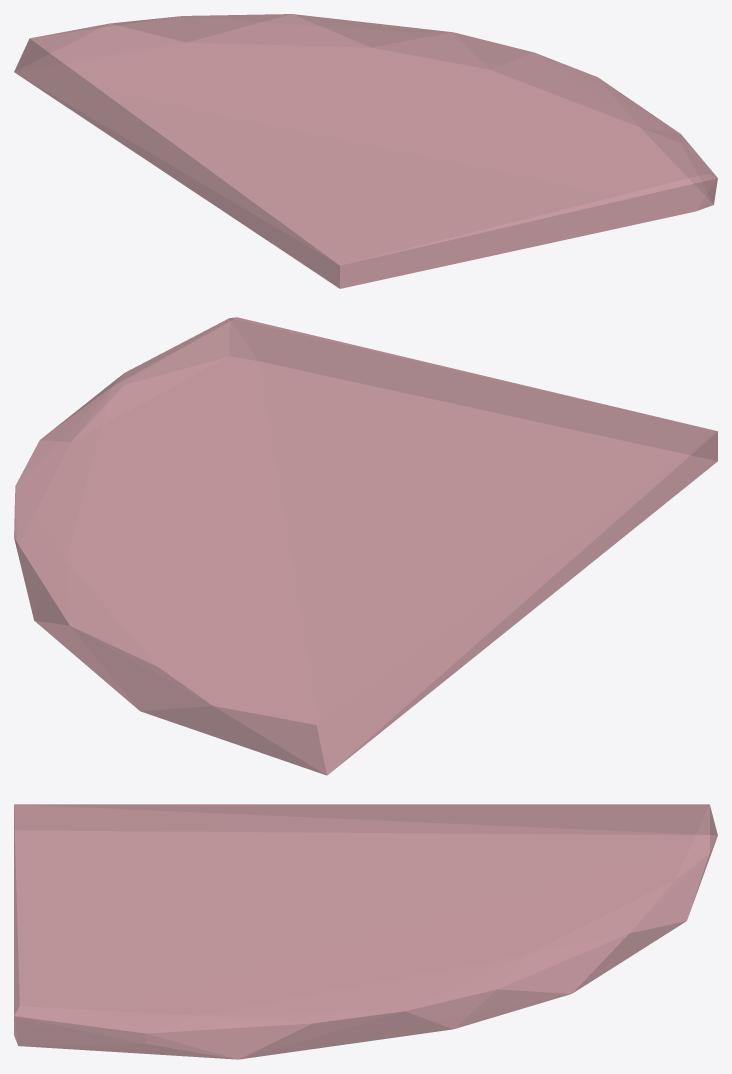
3 views of the same model, one above another, from view 1: azimuth 30°, elevation 25°; view 2: azimuth 150°, elevation 25°; view 3: azimuth 270°, elevation 25° (orthographic). The views are drawn at different scales.
Visible parts, largest first — view 1: Shape_IndexedFaceSet.004_Shape_IndexedFaceSet.12326; view 2: Shape_IndexedFaceSet.004_Shape_IndexedFaceSet.12326; view 3: Shape_IndexedFaceSet.004_Shape_IndexedFaceSet.12326.
Part boxes in pixels (box(x1,y1,x2,y2)): Shape_IndexedFaceSet.004_Shape_IndexedFaceSet.12326: box(14, 14, 717, 288); Shape_IndexedFaceSet.004_Shape_IndexedFaceSet.12326: box(14, 317, 717, 775); Shape_IndexedFaceSet.004_Shape_IndexedFaceSet.12326: box(14, 804, 717, 1059).
Size of the model in its own units: 0.2309 by 0.018 by 0.305.
